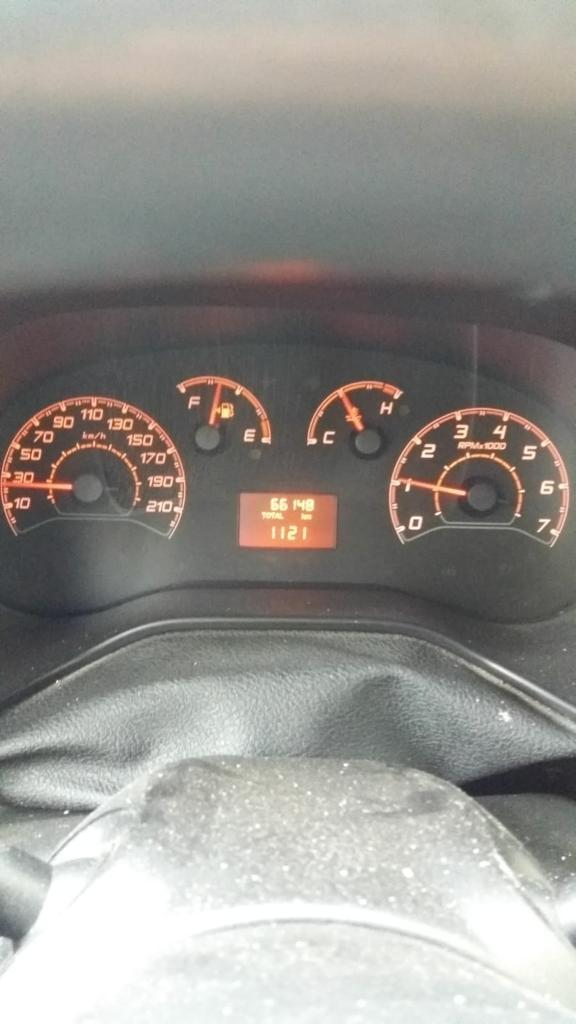1: (300, 525, 307, 540), (278, 525, 285, 539), (269, 525, 276, 539), (291, 498, 296, 511)
2: (286, 524, 297, 541)
4: (296, 498, 305, 511)
6: (269, 496, 279, 511), (279, 497, 287, 510)
8: (305, 498, 314, 511)
X: (305, 513, 312, 520), (279, 511, 284, 520), (274, 511, 279, 520), (266, 511, 271, 519), (260, 511, 265, 519), (300, 512, 305, 520), (271, 511, 275, 519)
odometer: (233, 486, 342, 552)
